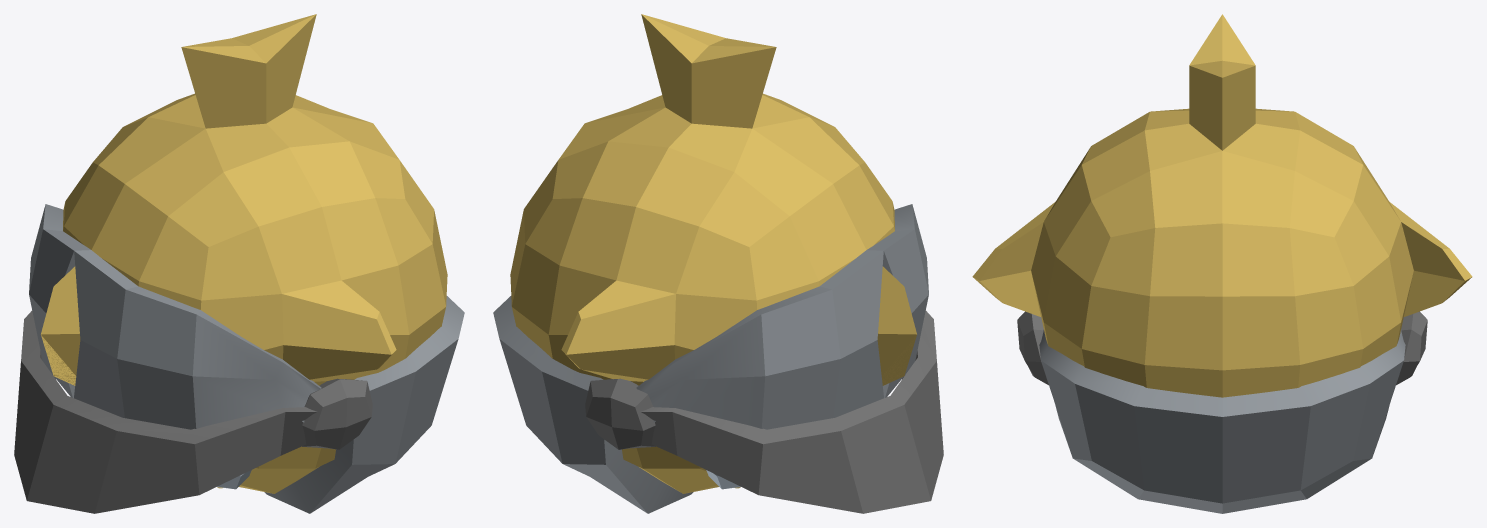
File: fish_ball.fbx
3 renders of one model, left to right at view 1: azimuth 30°, elevation 25°; view 2: azimuth 150°, elevation 25°; view 3: azimuth 270°, elevation 25°, orthographic. The views are drawn at different scales.
Visible parts, largest first — view 1: fish; view 2: fish; view 3: fish.
Boxes of the visible parts, x1=… form: fish: x1=14, y1=14, x2=464, y2=513; fish: x1=493, y1=14, x2=943, y2=513; fish: x1=972, y1=14, x2=1472, y2=513.
Bounding box in the file's own units: 243 × 268 × 269.
